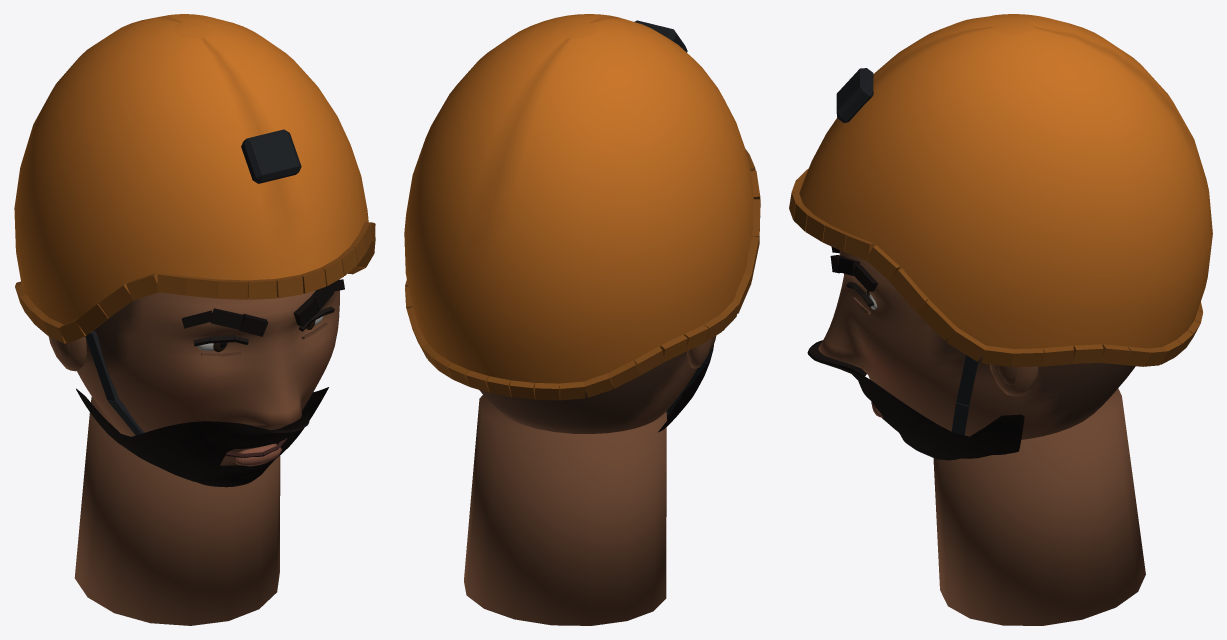
Rendered from cabeza-shotgun-m.glb.
3 views of the same model, side by side, from view 1: azimuth 30°, elevation 25°; view 2: azimuth 150°, elevation 25°; view 3: azimuth 270°, elevation 25° (orthographic).
Parts seen in each view (by area): view 1: h_Head; view 2: h_Head; view 3: h_Head.
Boxes of the visible parts, bbox=[...] form: h_Head: bbox=[14, 14, 375, 625]; h_Head: bbox=[404, 14, 760, 625]; h_Head: bbox=[789, 14, 1212, 625].
Size of the model in its own units: 0.2375 by 0.4314 by 0.2938.
